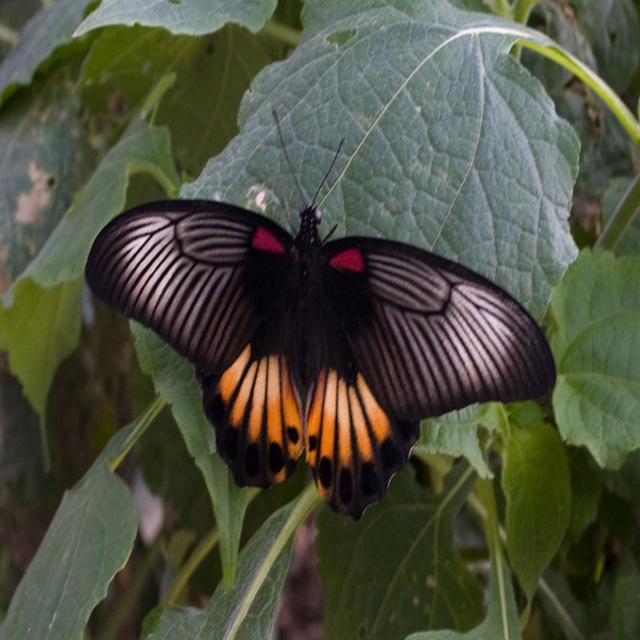Butterfly: (86, 111, 555, 518)
